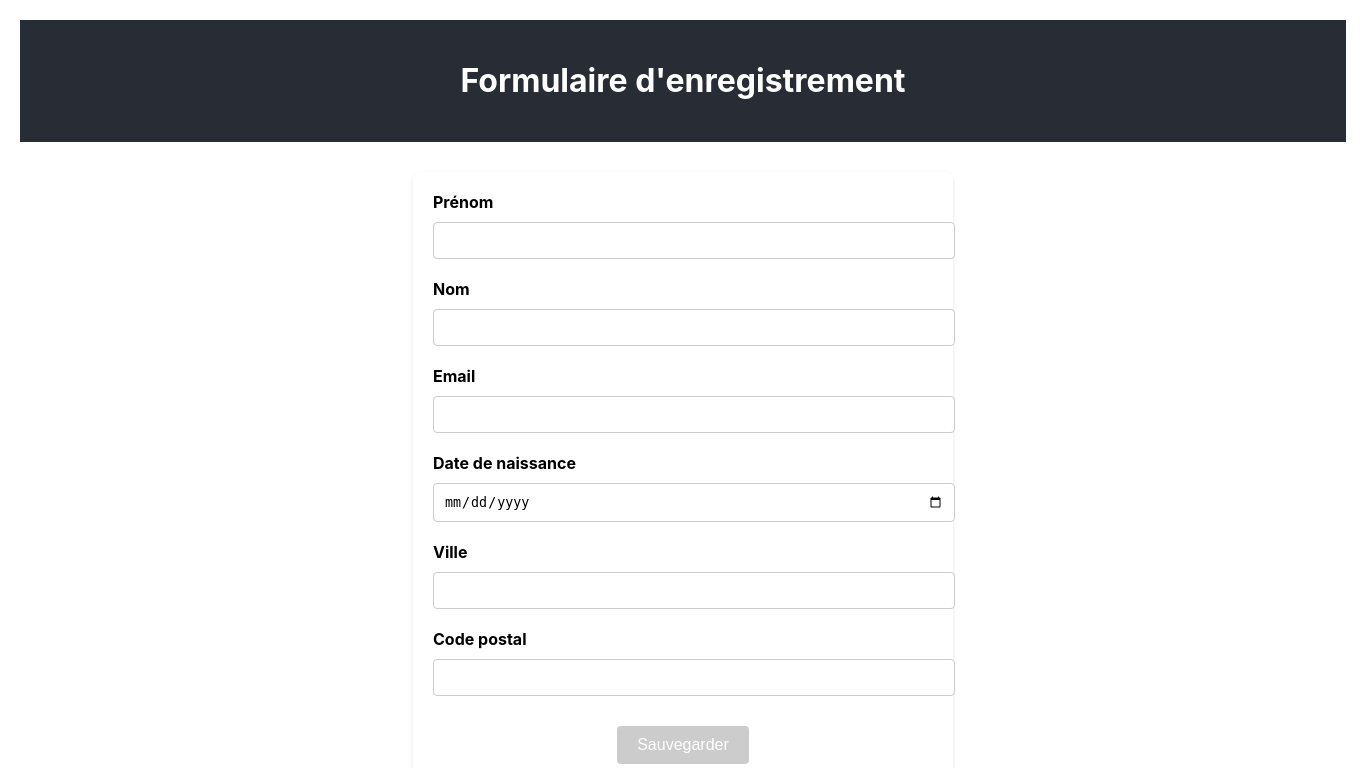
Error tests › Validation des champs › affiche une erreur pour le champ input-postalCode avec la valeur abc
The image size is (1366, 768).
In the field with test id "input-postalCode": (694, 678) [433,659,955,696], type "abc"
(page scrolled)
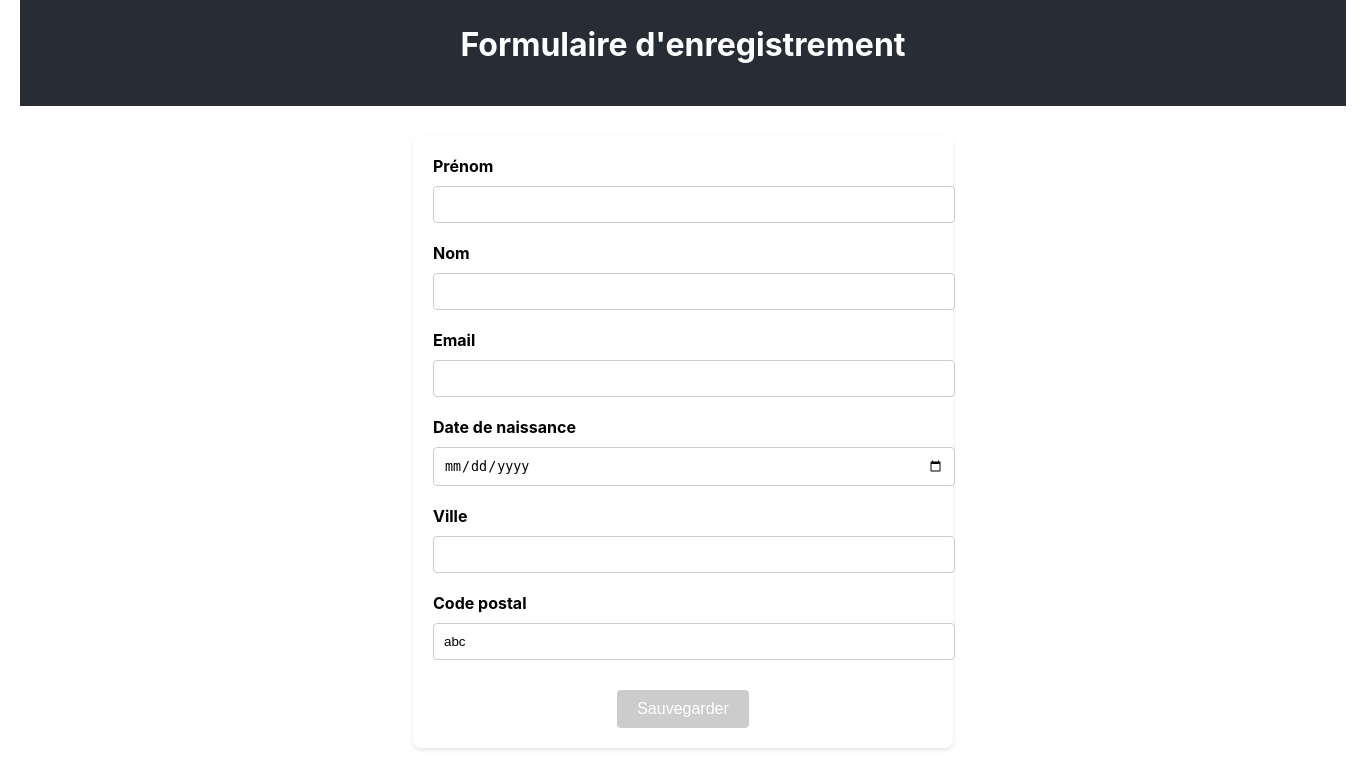
Submit the form with test id "registration-form", box [413,136,953,748]
(page scrolled)
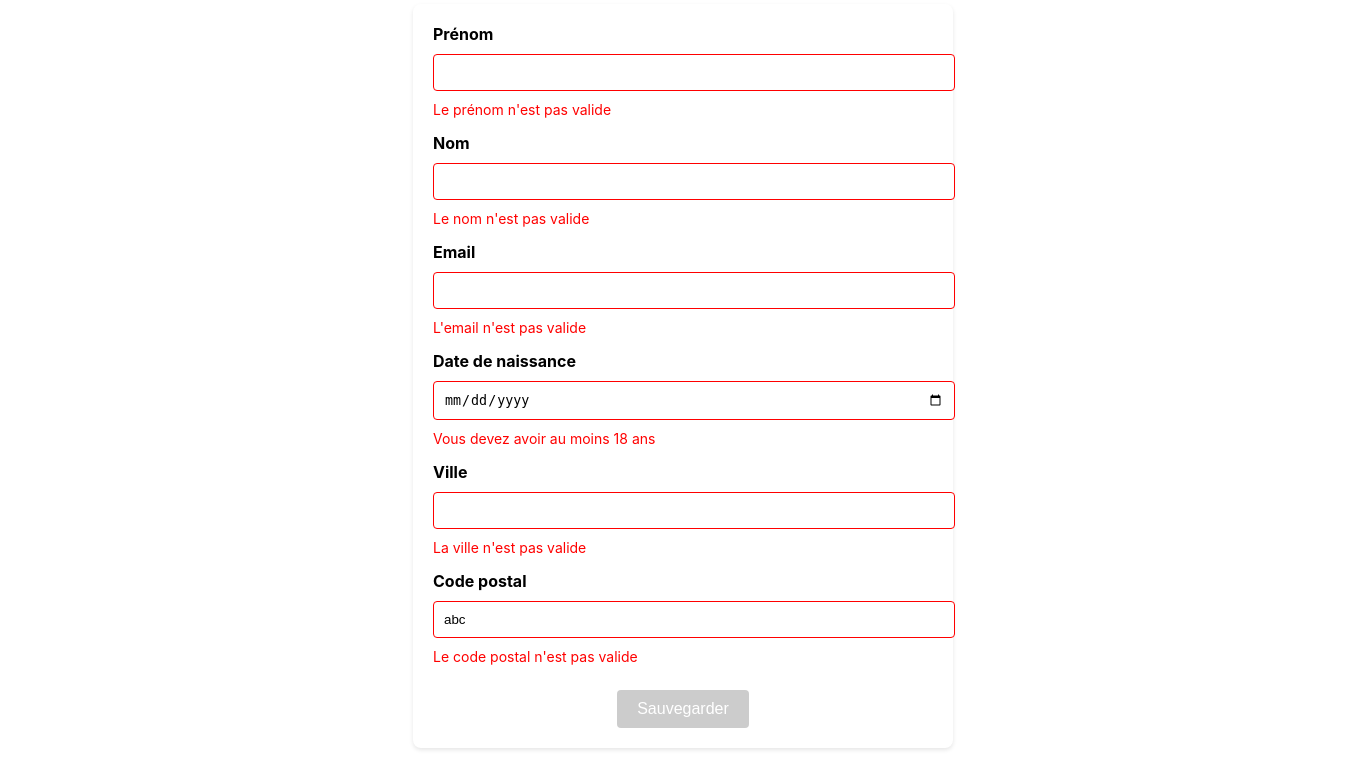
Expected: the text "Le code postal n'est pas valide" is shown, [433,648,638,665]
